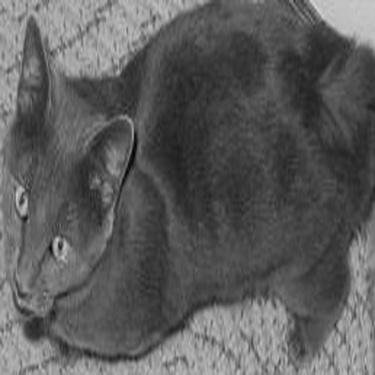cat: (1, 4, 357, 352)
